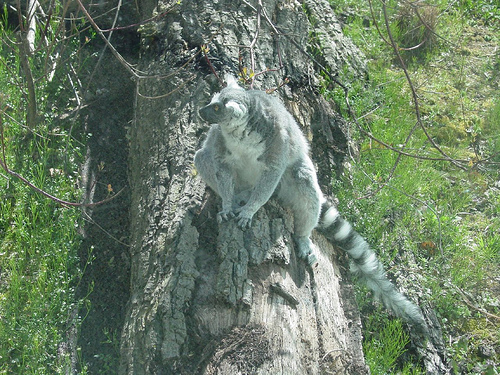cat: (191, 66, 432, 343)
